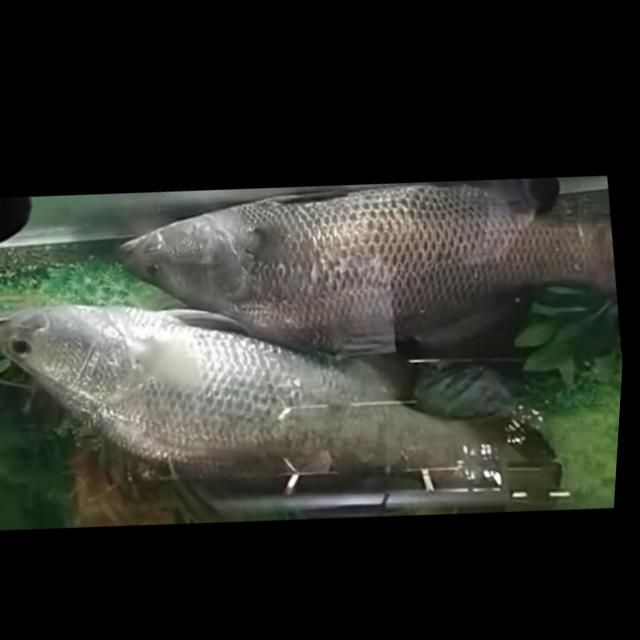Seabass: (0, 227, 566, 575), (98, 125, 631, 420)
